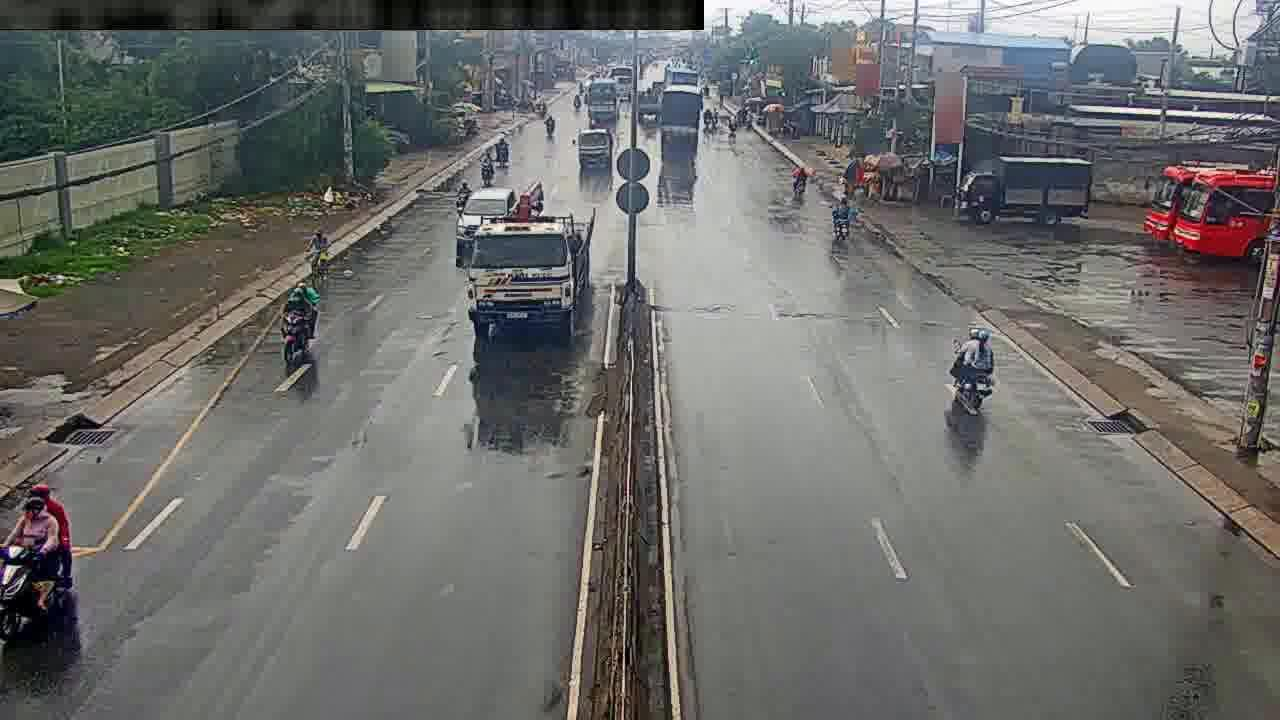8: (469, 182, 594, 345), (658, 81, 707, 148)
container: (456, 186, 513, 249)
motorbike: (2, 487, 75, 636), (279, 286, 315, 375), (957, 328, 992, 413), (308, 221, 335, 288), (832, 189, 854, 241), (792, 153, 812, 200), (484, 142, 503, 182), (539, 106, 553, 139)
